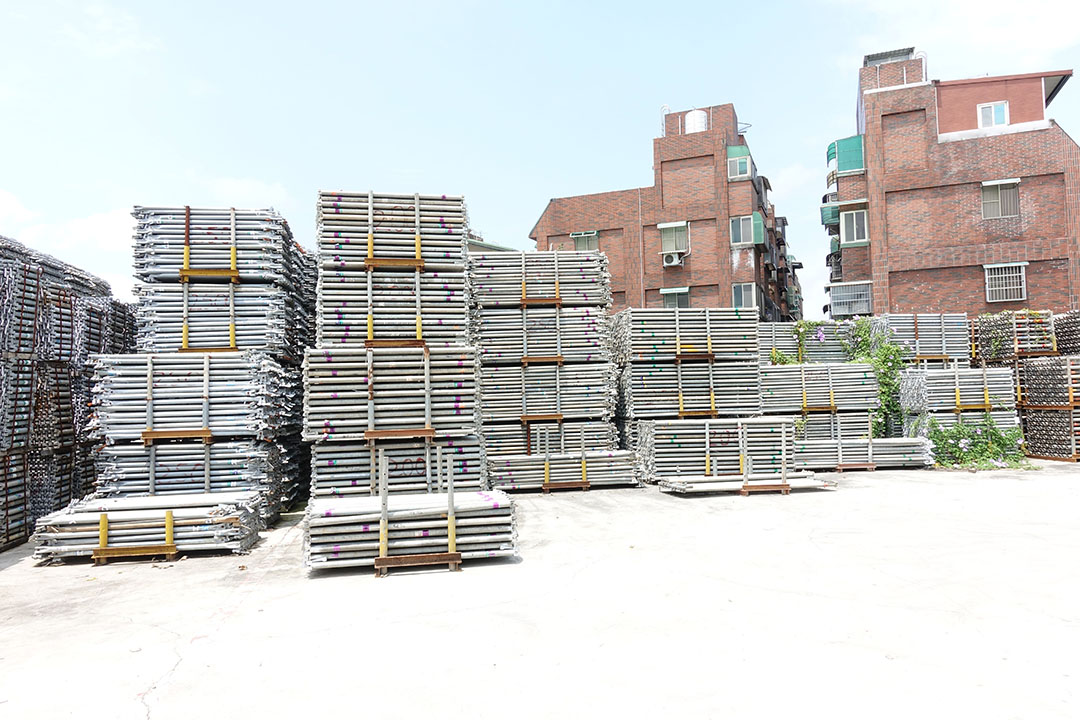building materials: (308, 443, 490, 554), (87, 353, 271, 443), (304, 346, 479, 440), (316, 188, 467, 272), (315, 272, 472, 348), (133, 203, 281, 283), (133, 284, 286, 353), (648, 419, 796, 484), (467, 249, 613, 307), (469, 308, 611, 365), (476, 367, 622, 422), (626, 306, 761, 364), (627, 365, 761, 418), (758, 364, 881, 415), (884, 313, 968, 362)
